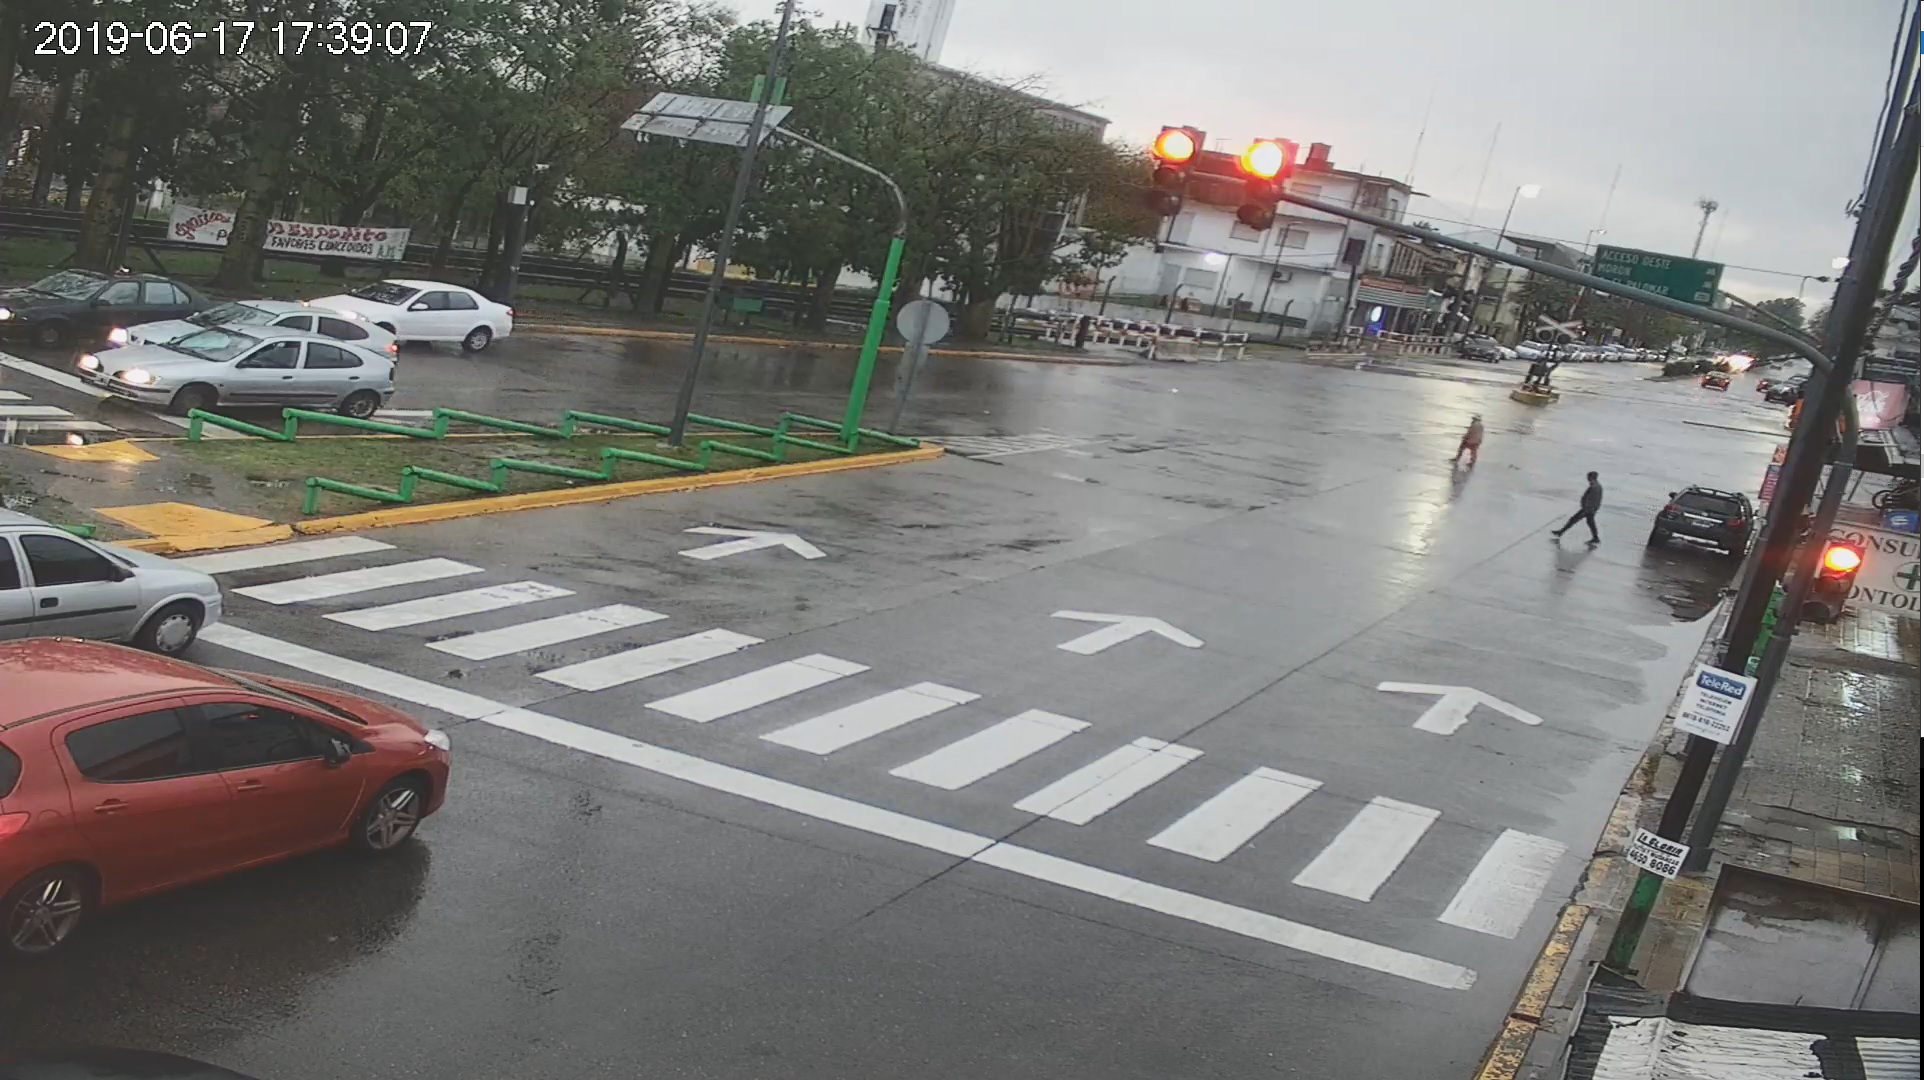car: (1, 635, 455, 972), (1, 508, 248, 660), (65, 320, 396, 422), (1646, 465, 1755, 576)
